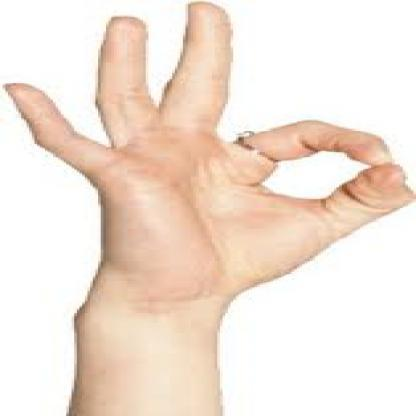ok: (0, 0, 413, 340)
